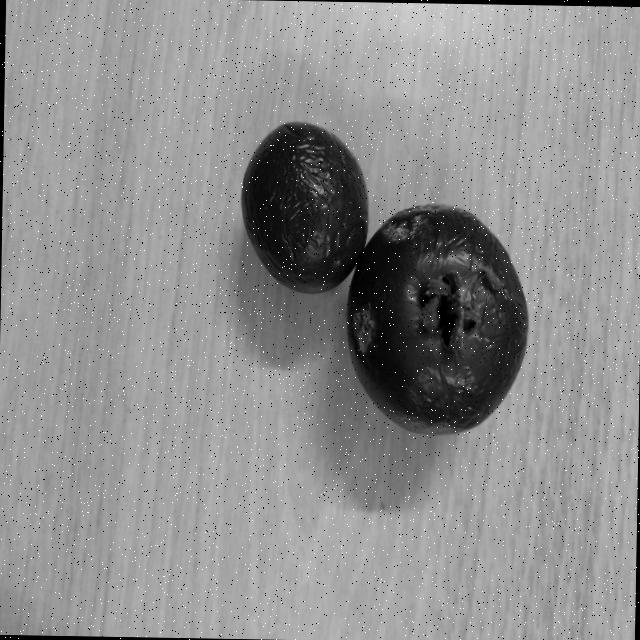Rotten: (347, 200, 534, 438)
overripe: (240, 118, 372, 293)
